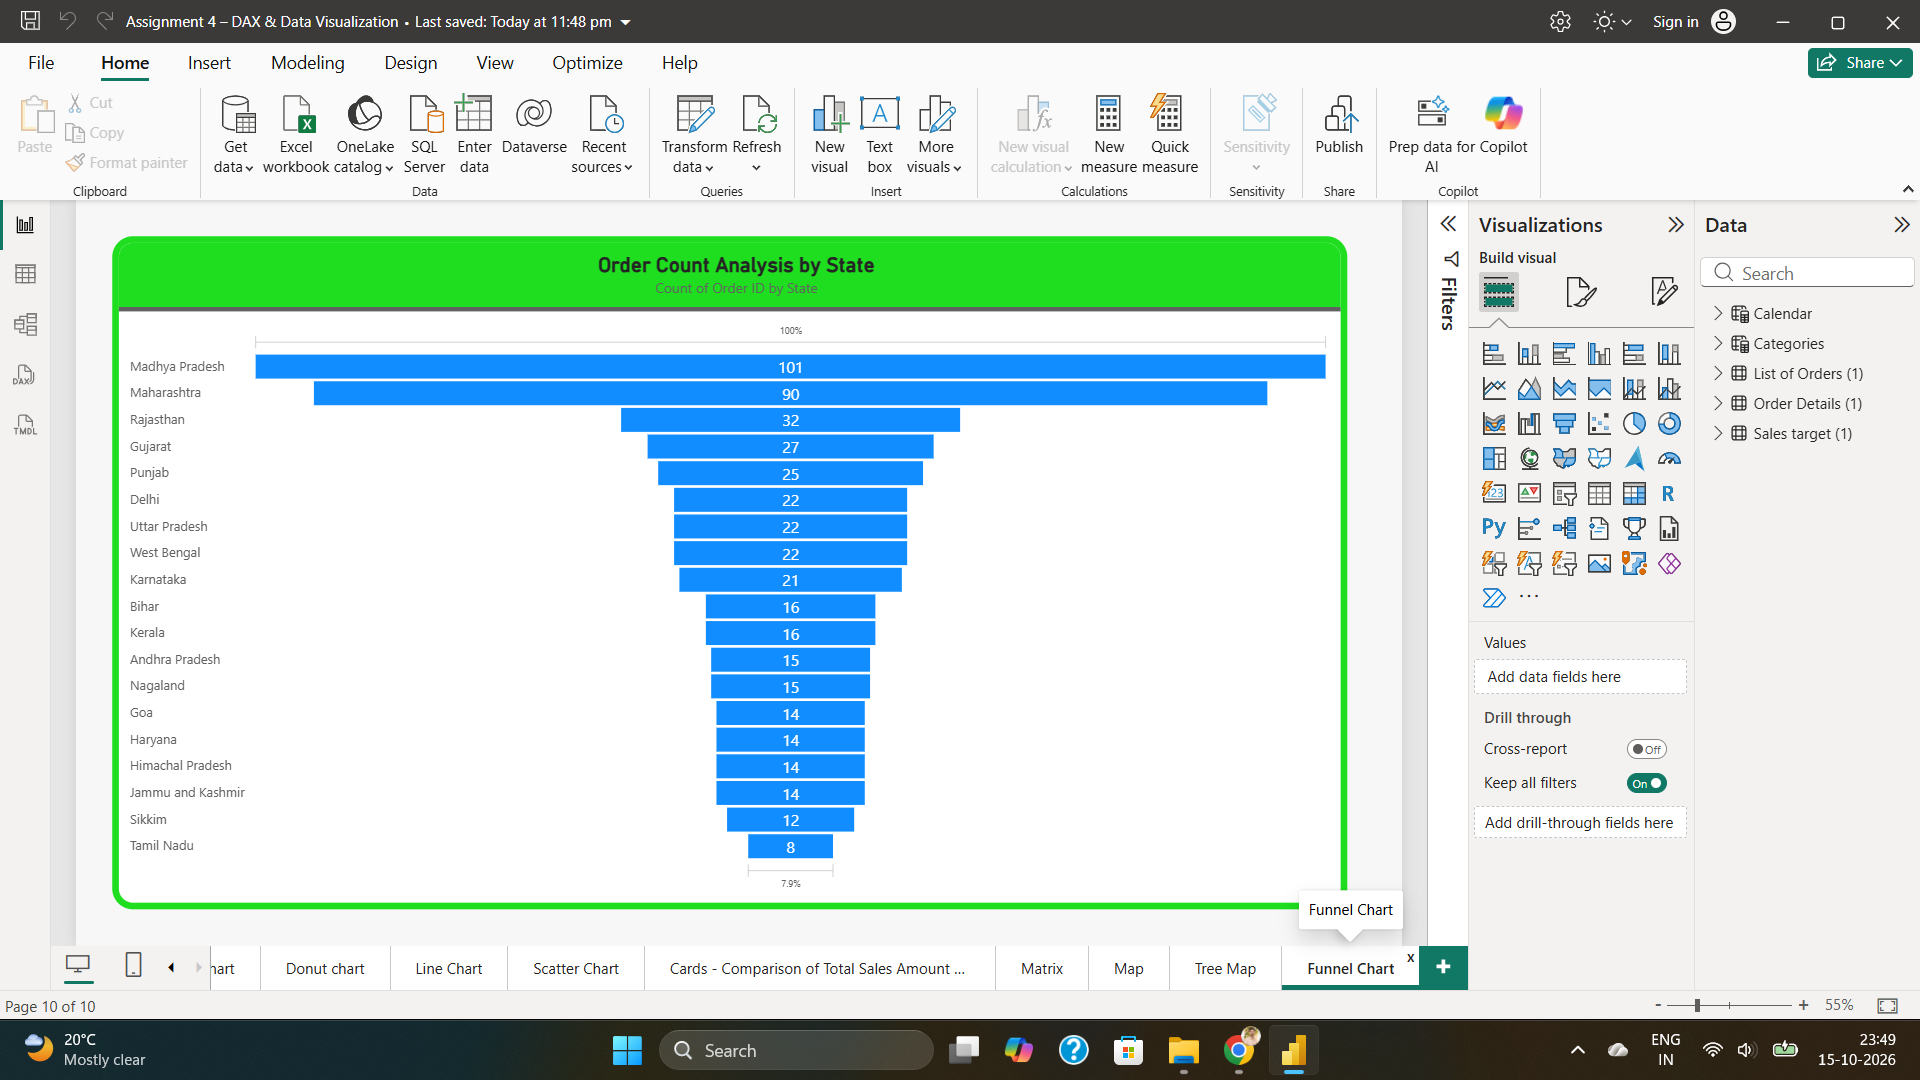

The dashboard page shown, as its layout file describes it:
{"tool":"powerbi","page":{"name":"Funnel Chart","canvas":[1920,1080],"ordinal":9},"visuals":[{"type":"funnel","title":"Order Count Analysis by State","fields":{"Category":["List of Orders (1).State"],"Y":["Count(List of Orders (1).Order ID)"]},"box":[52,52,1788,974],"z":0}]}

Visuals, with their boxes on the page's 1920x1080 design canvas (x1, y1, x2, y2). These are canvas units, not pixel positions in the 1920x1080 screenshot, which may show the page scaled, cropped or inside an application window:
"Order Count Analysis by State" funnel: [52, 52, 1840, 1026]
